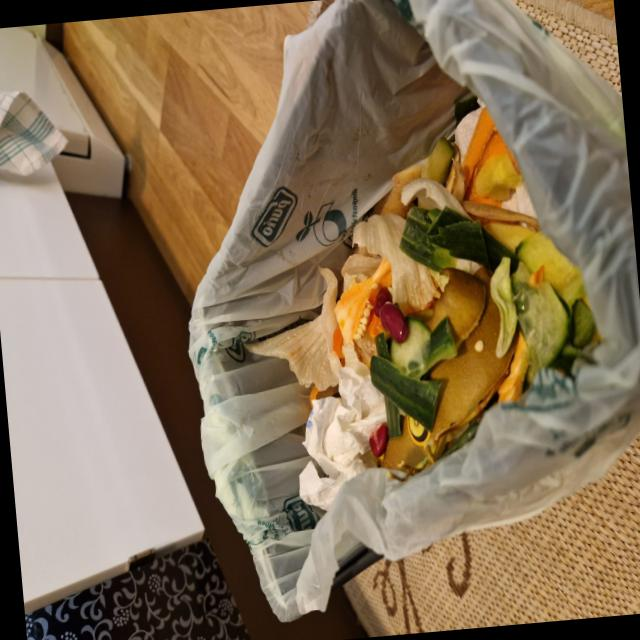organic waste: (287, 362, 393, 514)
